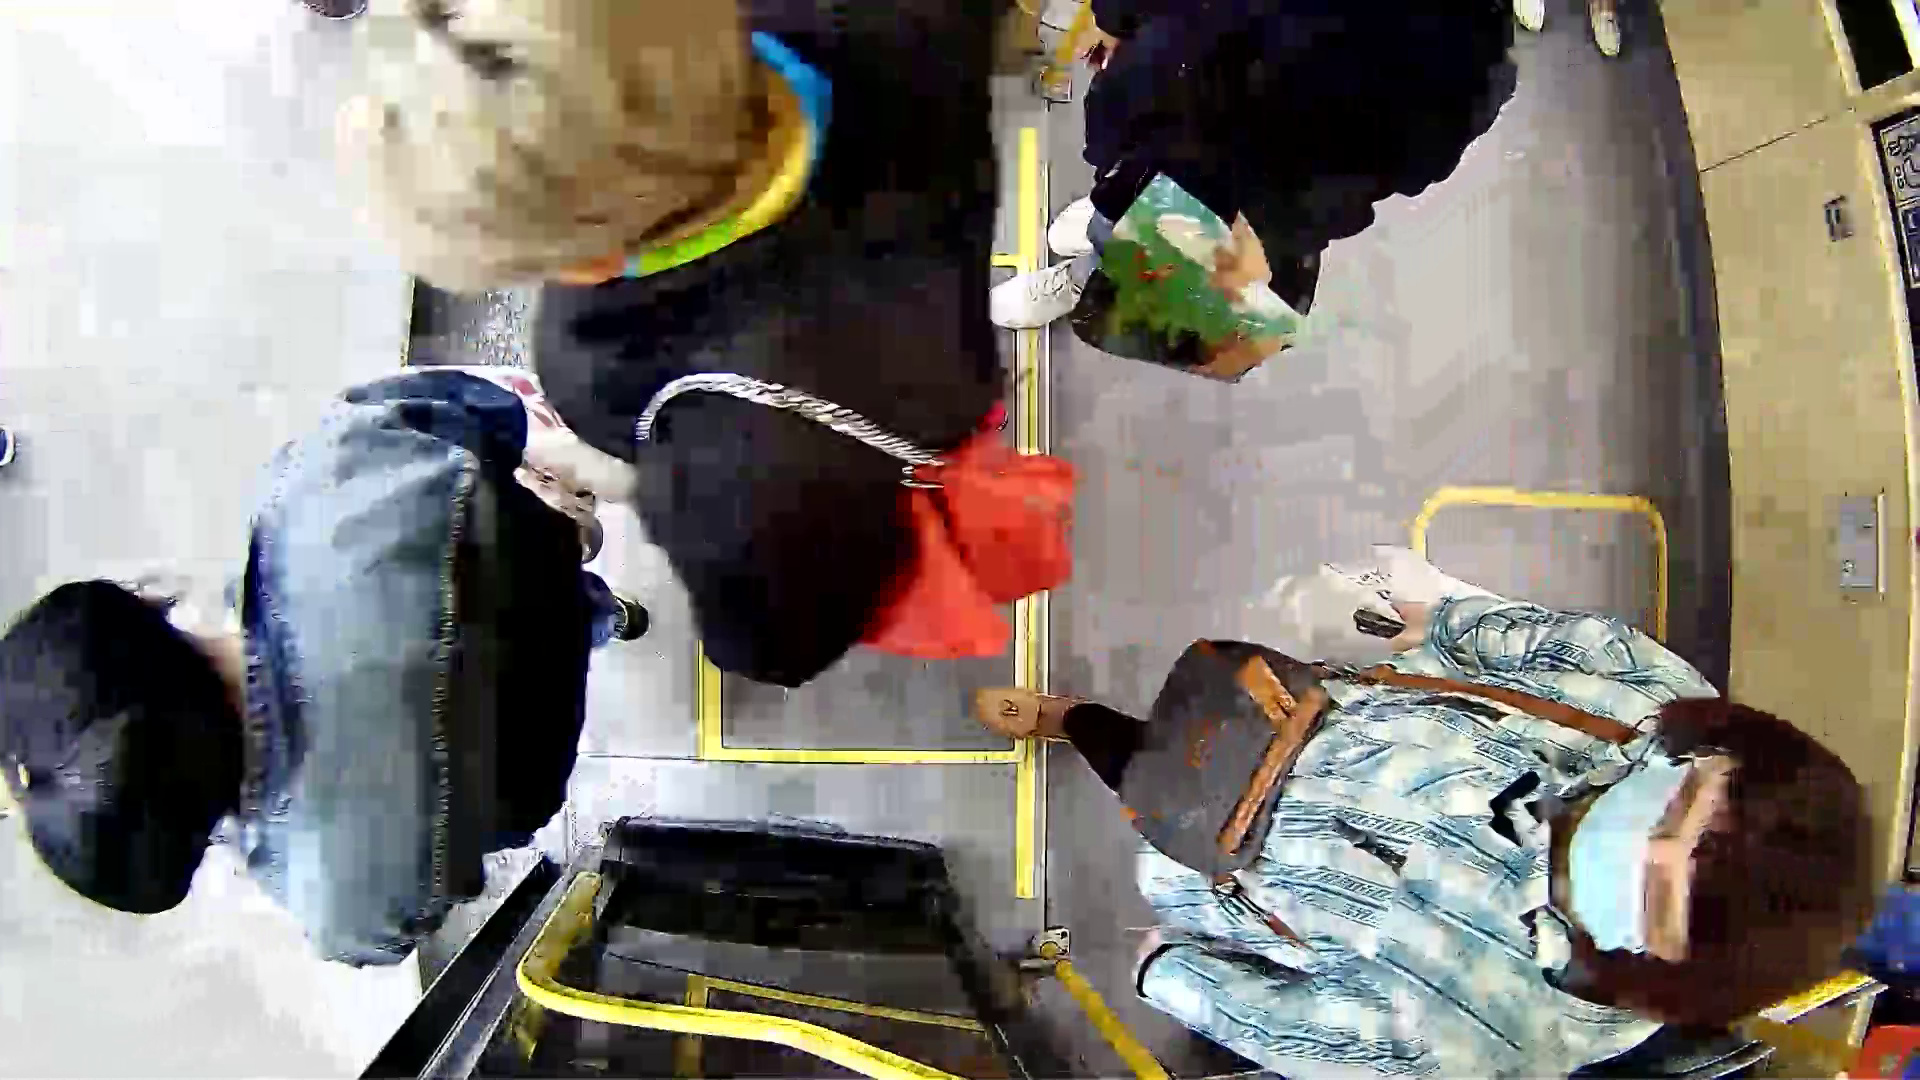person: (320, 9, 1128, 685), (1115, 522, 1871, 1080), (36, 411, 678, 953)
